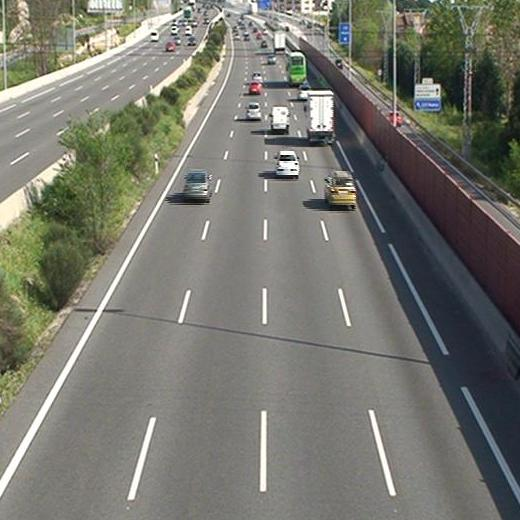bus: (286, 53, 306, 87)
car: (325, 171, 355, 206), (184, 169, 211, 201), (275, 151, 299, 177), (246, 103, 261, 120), (298, 85, 312, 100), (247, 82, 260, 94), (250, 72, 261, 83), (267, 56, 276, 64)
small-truck: (307, 92, 334, 143)
van: (269, 108, 290, 132)
